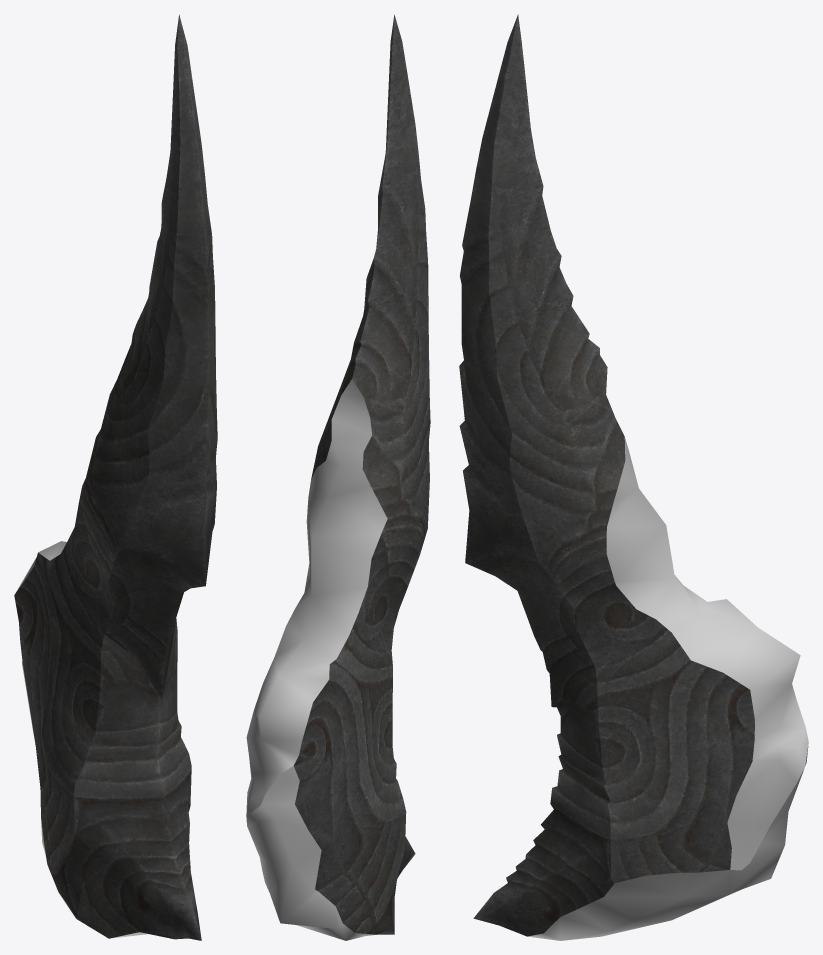
The model's file is bg_rad_kamen_pillar03b_sm_cjy.obj.
3 views of the same model, side by side, from view 1: azimuth 30°, elevation 25°; view 2: azimuth 150°, elevation 25°; view 3: azimuth 270°, elevation 25° (orthographic). The views are drawn at different scales.
Parts seen in each view (by area): view 1: bg_rad_kamen_pillar03b_sm_cjy_0, bg_rad_kamen_pillar03b_sm_cjy_1; view 2: bg_rad_kamen_pillar03b_sm_cjy_0, bg_rad_kamen_pillar03b_sm_cjy_1; view 3: bg_rad_kamen_pillar03b_sm_cjy_0, bg_rad_kamen_pillar03b_sm_cjy_1.
Part boxes in pixels (x1,y1,x2,y2): bg_rad_kamen_pillar03b_sm_cjy_0: (14,14,217,940); bg_rad_kamen_pillar03b_sm_cjy_1: (15,541,148,938); bg_rad_kamen_pillar03b_sm_cjy_0: (293,14,430,934); bg_rad_kamen_pillar03b_sm_cjy_1: (246,379,387,940); bg_rad_kamen_pillar03b_sm_cjy_0: (459,14,754,936); bg_rad_kamen_pillar03b_sm_cjy_1: (528,437,808,940).
Bounding box in the file's own units: 0.0897 × 0.6686 × 0.2261.
Materials: 2 (1 with a texture image).
